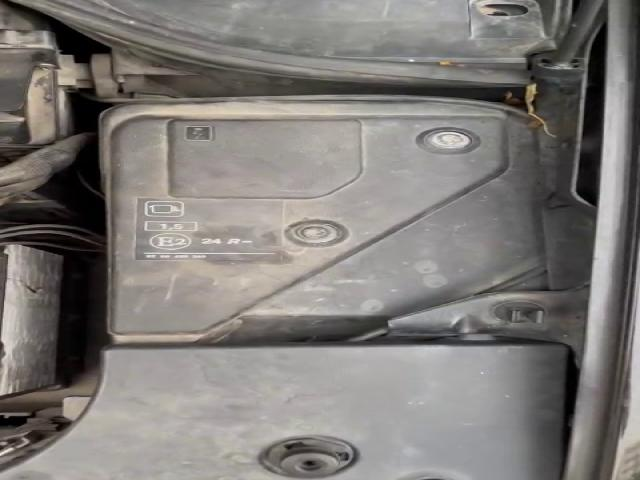fuse_box: (105, 113, 537, 336)
